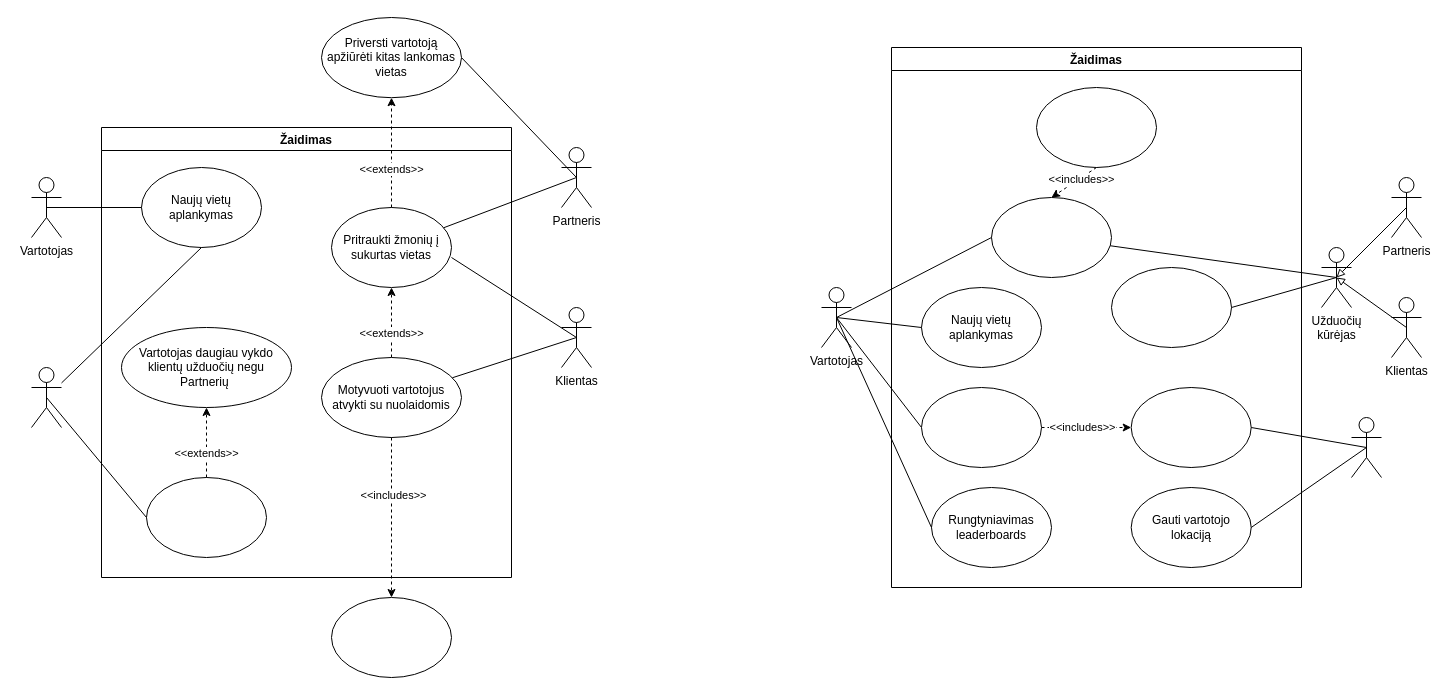
This 1448x695 diagram has some shape labels left out. The centre of each missing label's shape, as x and y in pixels:
"Gauti pinigus už vietos prenumeratą iš kliento" goes at (206,517).
"Išleisti pinigus atvyktoje vietoje" goes at (391,637).
"Savininkas" goes at (46,397).
"Sklandus žaidimo veikimas" goes at (981,427).
"Suteikti žemėlapio duomenis" goes at (1190,427).
"Tiekėjas" goes at (1366,447).
"Užduočių sukūrimas" goes at (1171,307).
"Užduočių įveikimas" goes at (1051,237).
"Vietos aplankymas" goes at (1096,127).
